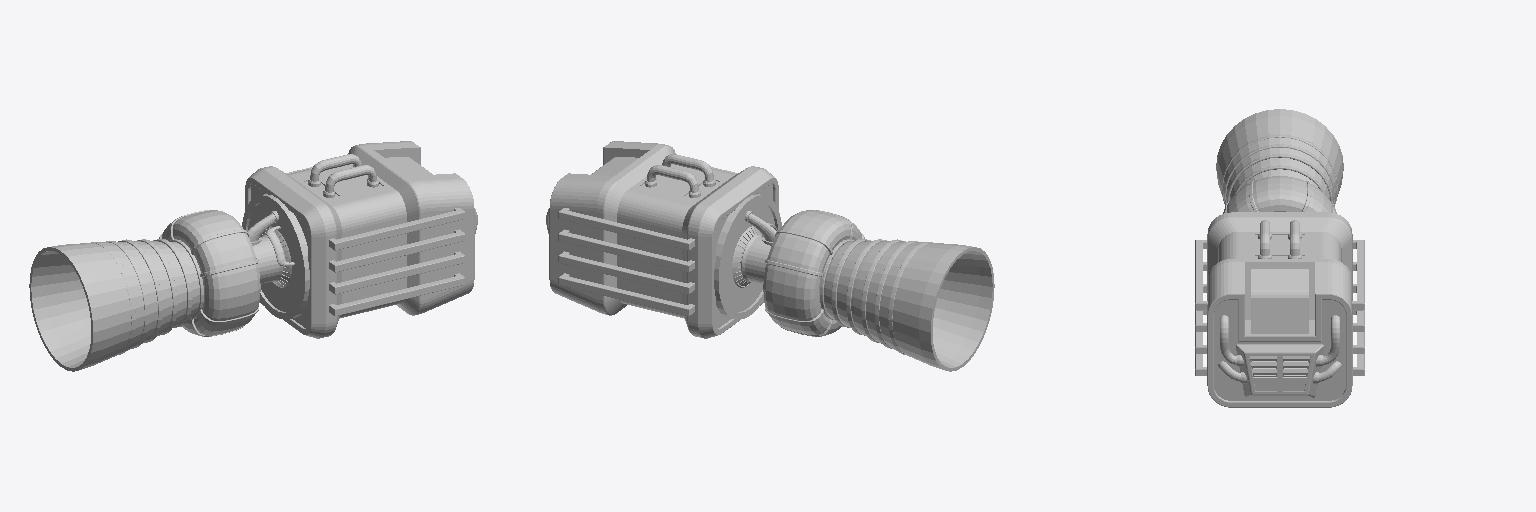
The model's file is big_thruster.obj.
3 renders of one model, left to right at view 1: azimuth 30°, elevation 25°; view 2: azimuth 150°, elevation 25°; view 3: azimuth 270°, elevation 25°, orthographic.
Parts seen in each view (by area): view 1: thruster; view 2: thruster; view 3: thruster.
Boxes of the visible parts, x1=… form: thruster: x1=29, y1=141, x2=477, y2=371; thruster: x1=546, y1=141, x2=994, y2=371; thruster: x1=1195, y1=109, x2=1364, y2=407.
Size of the model in its own units: 2.79 by 0.9804 by 1.05.